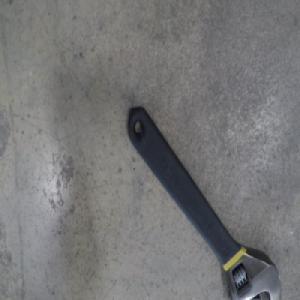AdjustableWrench: (126, 105, 280, 299)
